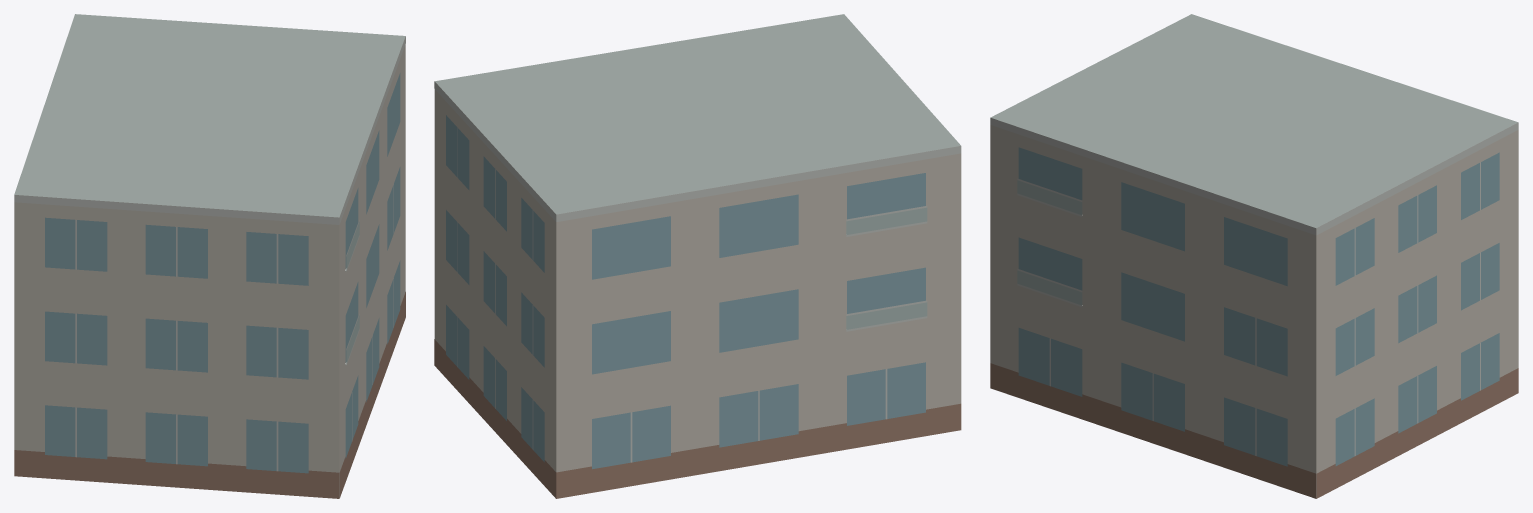
The model's file is survey-upis-32698668.glb.
3 views of the same model, side by side, from view 1: azimuth 30°, elevation 25°; view 2: azimuth 150°, elevation 25°; view 3: azimuth 270°, elevation 25° (orthographic). The views are drawn at different scales.
Visible parts, largest first — view 1: survey-upis-32698668.tmp; view 2: survey-upis-32698668.tmp; view 3: survey-upis-32698668.tmp.
Part boxes in pixels (box(x1,y1,x2,y2)): survey-upis-32698668.tmp: box(14, 14, 405, 498); survey-upis-32698668.tmp: box(434, 14, 961, 498); survey-upis-32698668.tmp: box(990, 14, 1518, 498).
Bounding box in the file's own units: 15.54 × 9.15 × 16.2.
